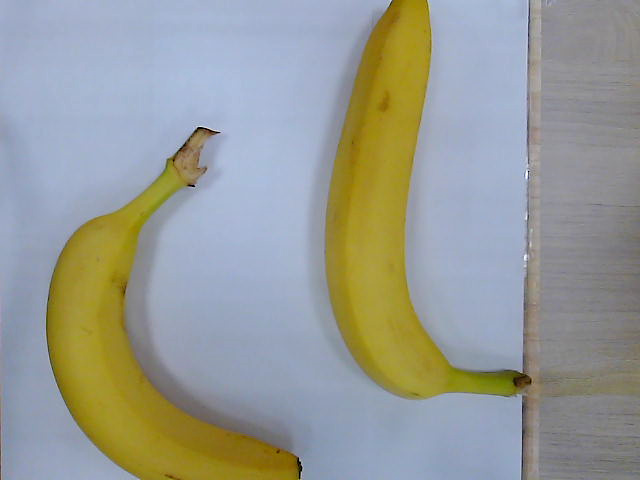fresh_banana: (47, 130, 302, 480), (325, 1, 538, 402)
